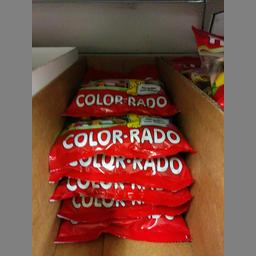candy: (68, 54, 172, 108)
